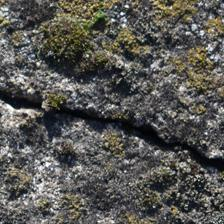Crack: (2, 44, 219, 130)
